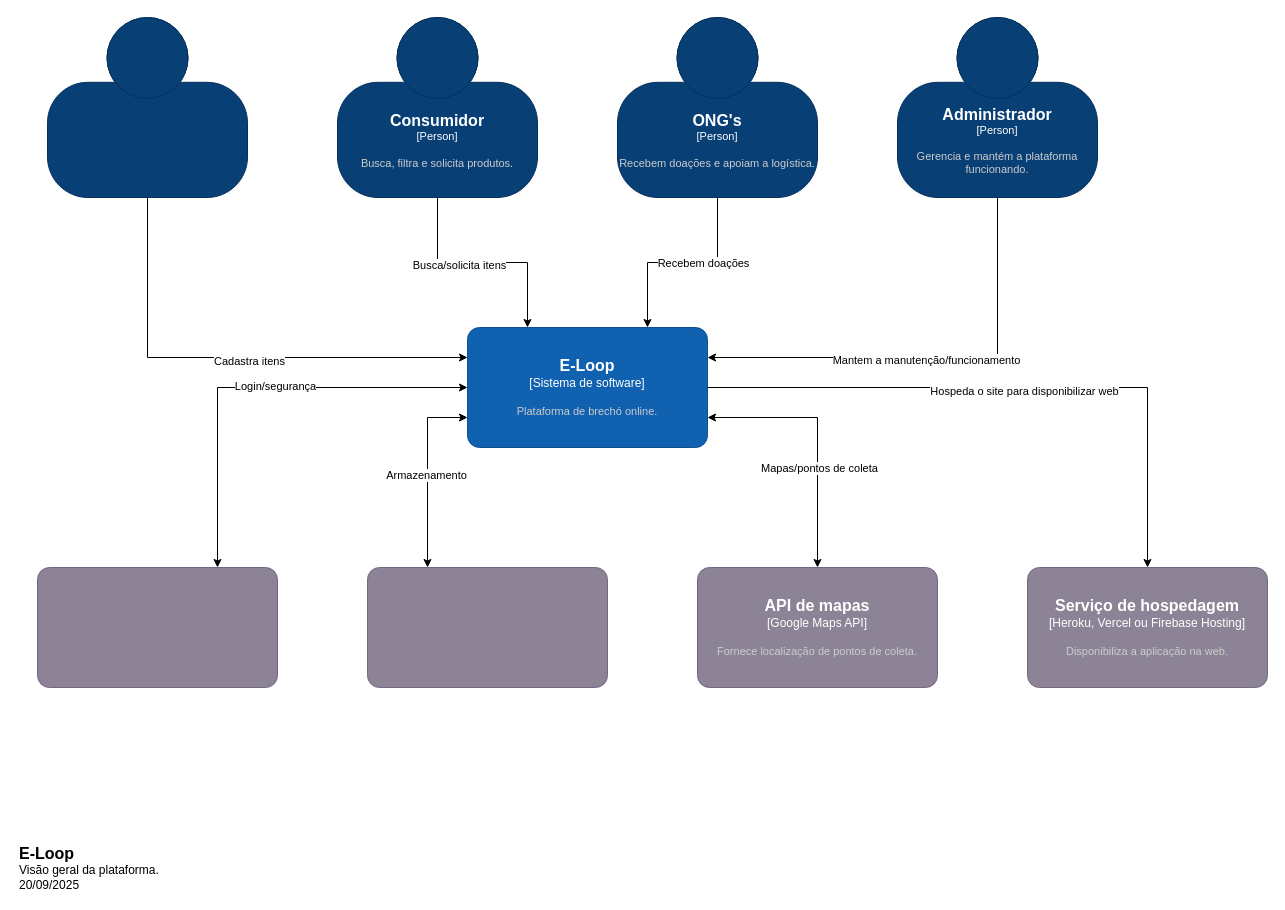
This 1285x910 diagram has some shape labels left out. The shapes that lost their labels are listed below. From the top down, each one's centre as x and y in pixels, then its label:
At (147,107): "Doador [Person] Cadastra produtos para doação/venda.".
At (157,627): "Serviço de Autenticação [Firebase Authentication] Garante login e segurança.".
At (487,627): "Banco de Dados [SQLite/MySQL] Armazena usuários, produtos, mensagens etc.".
